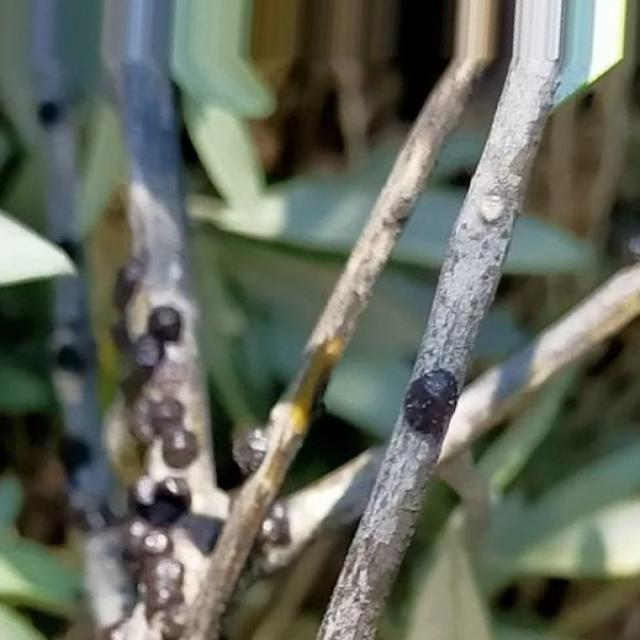Black Scale: (110, 268, 199, 618), (402, 368, 456, 439), (232, 425, 268, 476)
